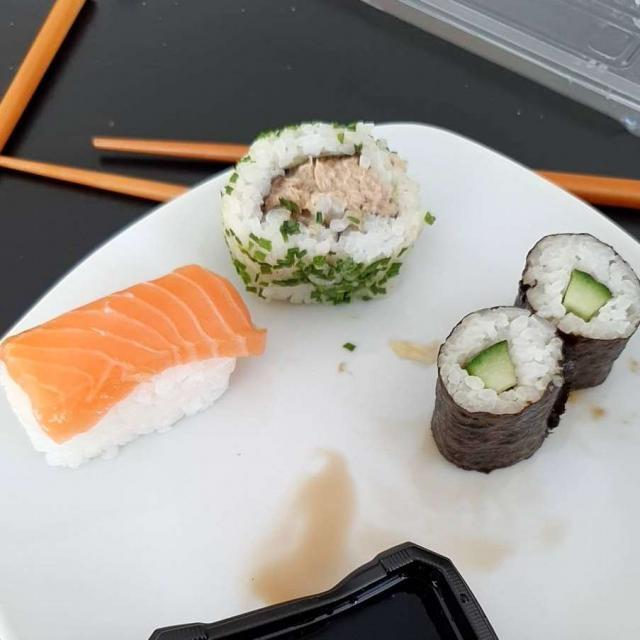sauce: (249, 458, 409, 602)
sushi: (1, 125, 633, 472)
